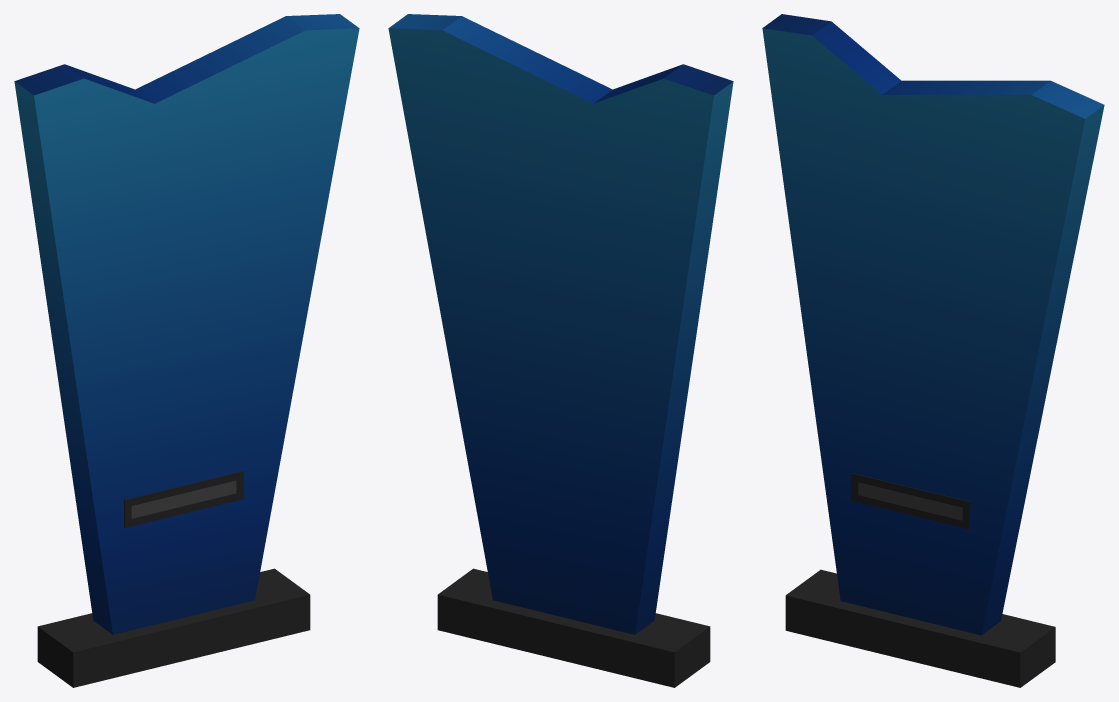
File: TrophyV4.fbx
3 renders of one model, left to right at view 1: azimuth 30°, elevation 25°; view 2: azimuth 150°, elevation 25°; view 3: azimuth 330°, elevation 25°, orthographic.
Visible parts, largest first — view 1: TrophyV4; view 2: TrophyV4; view 3: TrophyV4.
Boxes of the visible parts, <box> form: TrophyV4: <box>14,14,359,687</box>; TrophyV4: <box>388,14,733,687</box>; TrophyV4: <box>762,14,1104,687</box>.
Bounding box in the file's own units: 11.09 × 19.5 × 2.1.
